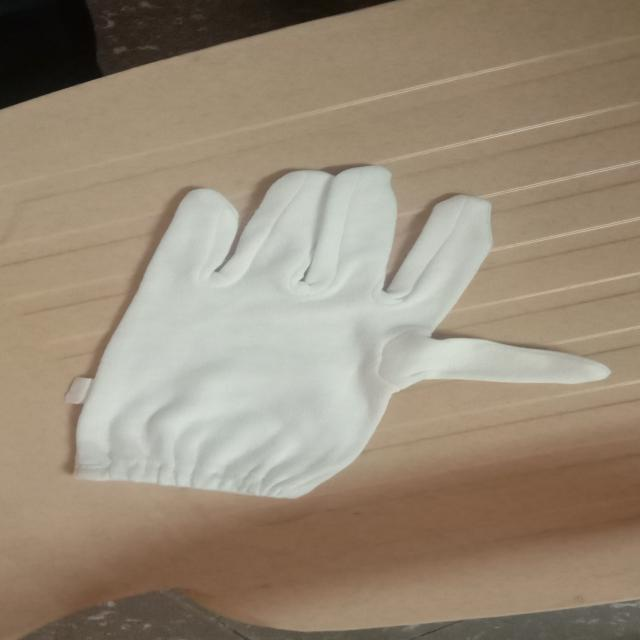gloved_hand: (51, 161, 620, 507)
